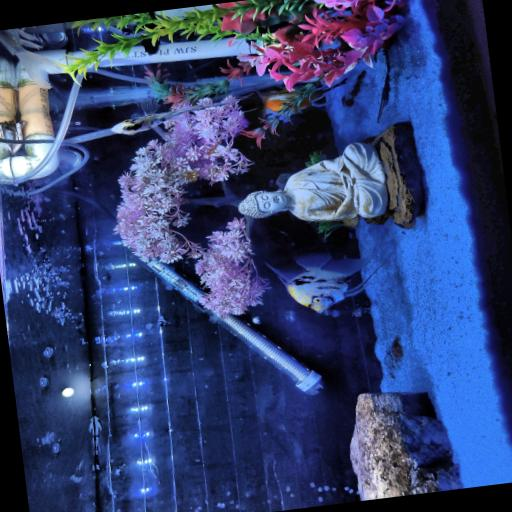Fish: (270, 252, 374, 312), (111, 97, 243, 134), (0, 28, 59, 87)
